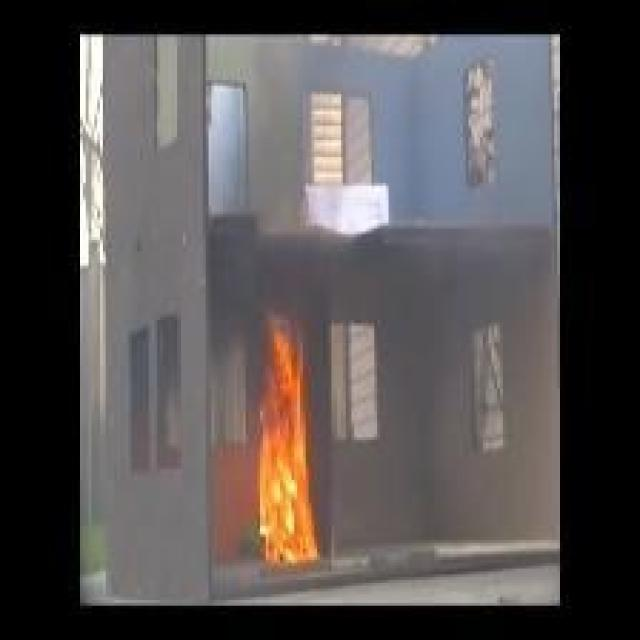fire: (244, 314, 319, 563)
